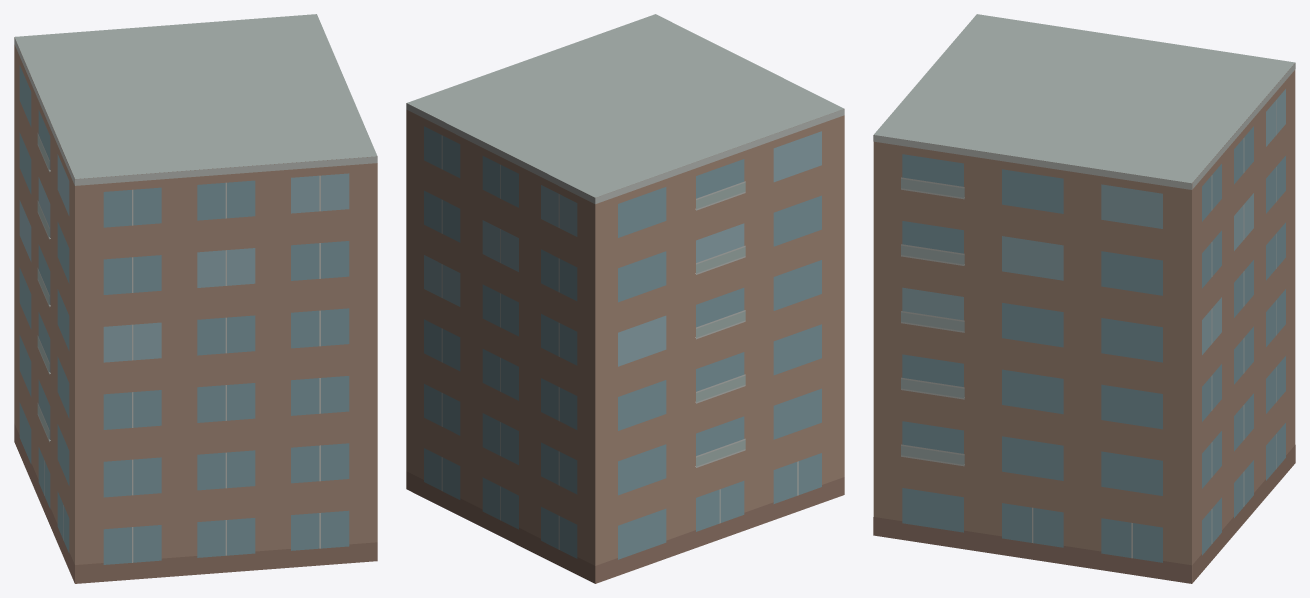
File: survey-upis-32883308.glb
3 views of the same model, side by side, from view 1: azimuth 30°, elevation 25°; view 2: azimuth 150°, elevation 25°; view 3: azimuth 270°, elevation 25° (orthographic). The views are drawn at different scales.
Parts seen in each view (by area): view 1: survey-upis-32883308.tmp; view 2: survey-upis-32883308.tmp; view 3: survey-upis-32883308.tmp.
Part boxes in pixels (x1,y1,x2,y2): survey-upis-32883308.tmp: (14,14,377,583); survey-upis-32883308.tmp: (406,14,844,583); survey-upis-32883308.tmp: (873,14,1295,583).
Bounding box in the file's own units: 13.2 × 14.55 × 13.9.
